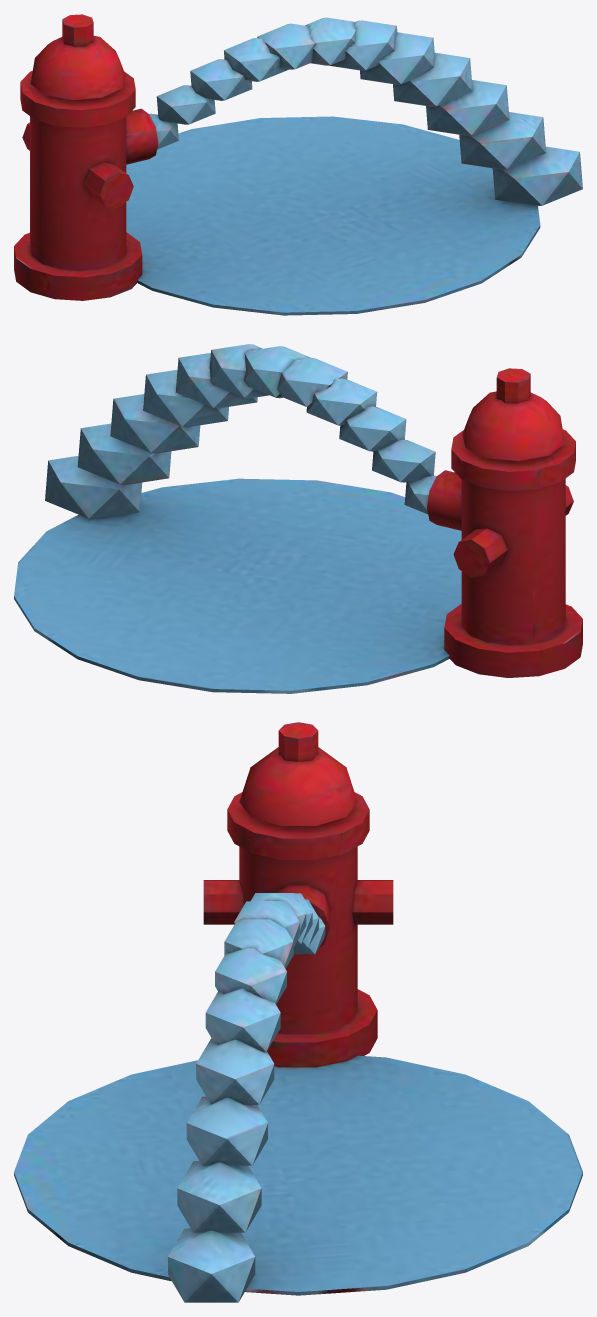
File: hidrante.glb
3 renders of one model, top to bottom at view 1: azimuth 30°, elevation 25°; view 2: azimuth 150°, elevation 25°; view 3: azimuth 270°, elevation 25°, orthographic. The views are drawn at different scales.
Visible parts, largest first — view 1: hidrante; view 2: hidrante; view 3: hidrante.
Boxes of the visible parts, <box> form: hidrante: <box>14,14,582,315</box>; hidrante: <box>14,344,582,693</box>; hidrante: <box>14,722,582,1302</box>.
Size of the model in its own units: 1.86 by 0.894 by 1.44.
Materials: 1 (1 with a texture image).
